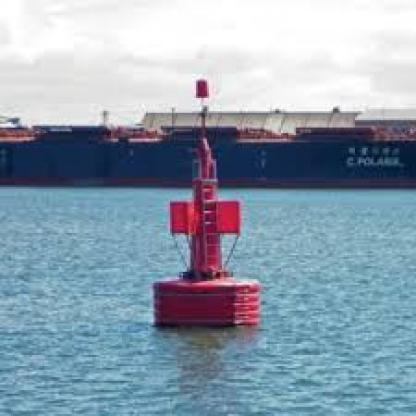buoy: (154, 132, 268, 336)
